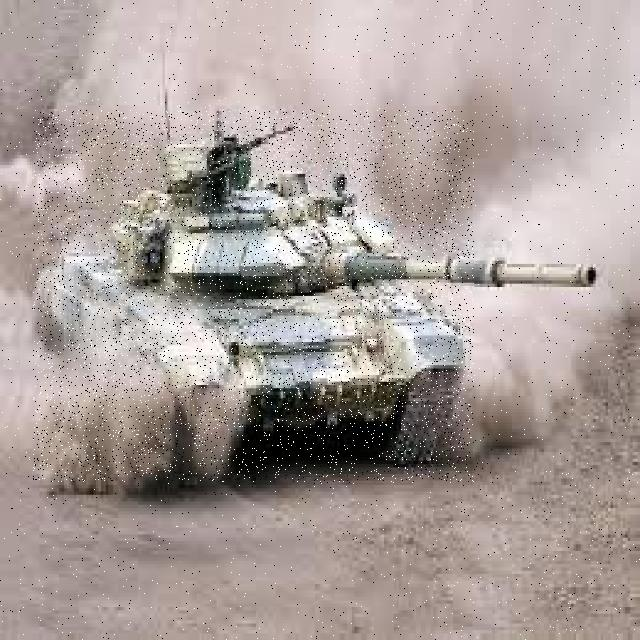MIL_MBT: (33, 111, 474, 482)
